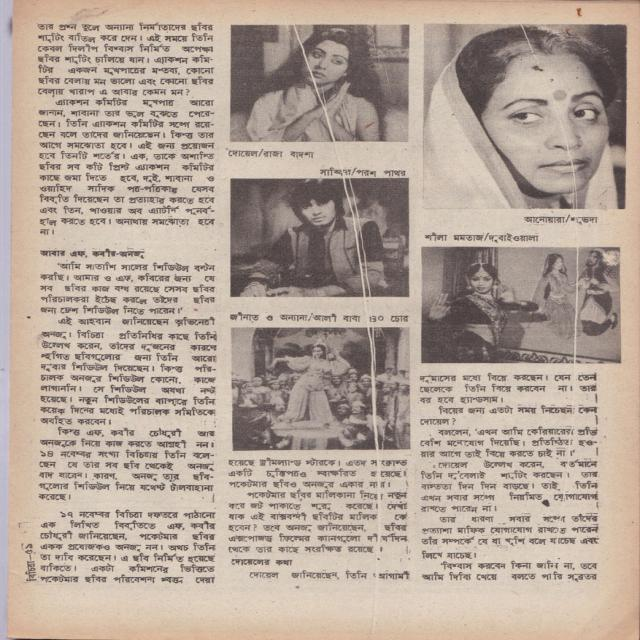caption: (223, 309, 411, 324), (420, 229, 544, 244), (317, 165, 409, 180), (226, 147, 316, 161), (520, 213, 602, 226)
image: (424, 24, 626, 209), (422, 247, 621, 365), (232, 327, 410, 450), (229, 25, 410, 142), (229, 181, 409, 297)
page number: (25, 543, 34, 555)
paragraph: (33, 97, 218, 237), (35, 316, 223, 426), (39, 507, 218, 588), (32, 20, 217, 98), (36, 425, 218, 502), (225, 489, 410, 556), (30, 259, 222, 316), (419, 459, 603, 515), (416, 512, 603, 561), (417, 371, 601, 406), (416, 425, 600, 460), (225, 457, 411, 489), (416, 403, 602, 428), (418, 559, 601, 582), (247, 570, 415, 582)
text: (24, 560, 37, 581)
title: (34, 246, 147, 260), (228, 557, 297, 568)
